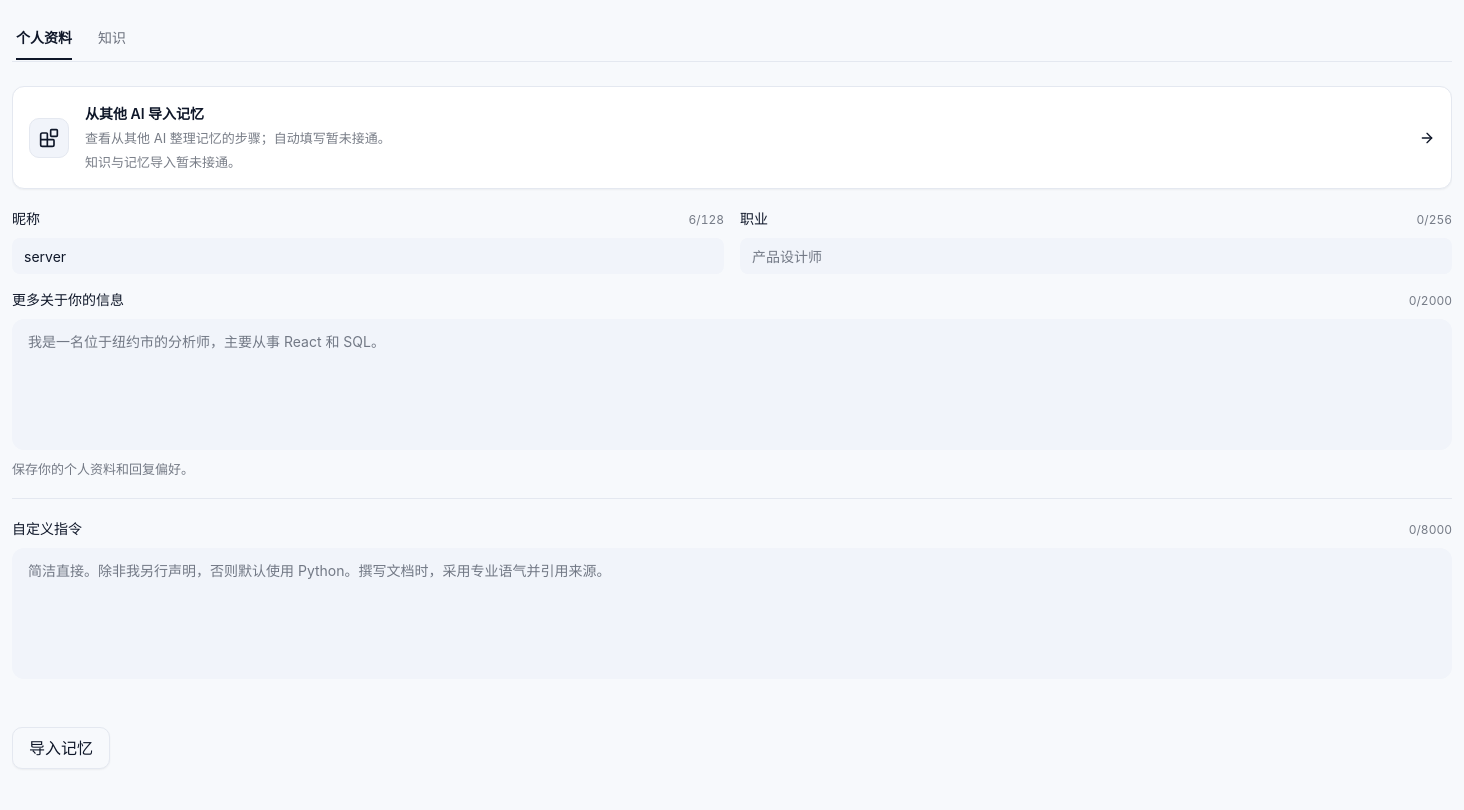
it: adopts the reread server snapshot only when the user chooses it
This screenshot has width=1464, height=810.
Replace the text in the field labelled "昵称" with "mine". click: [368, 256]
box: [12, 238, 724, 274]
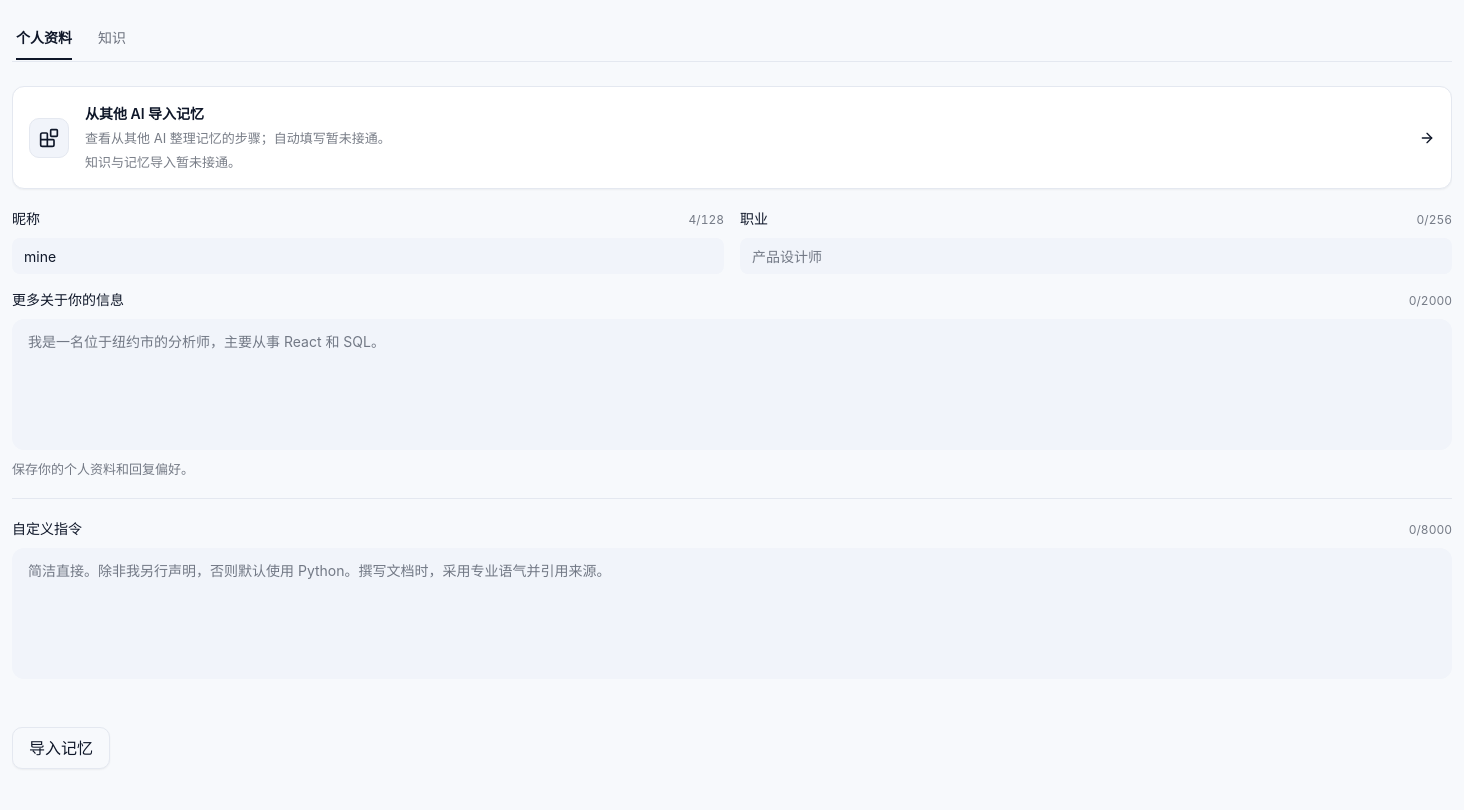
Leave the field labelled "昵称", box [12, 238, 724, 274]
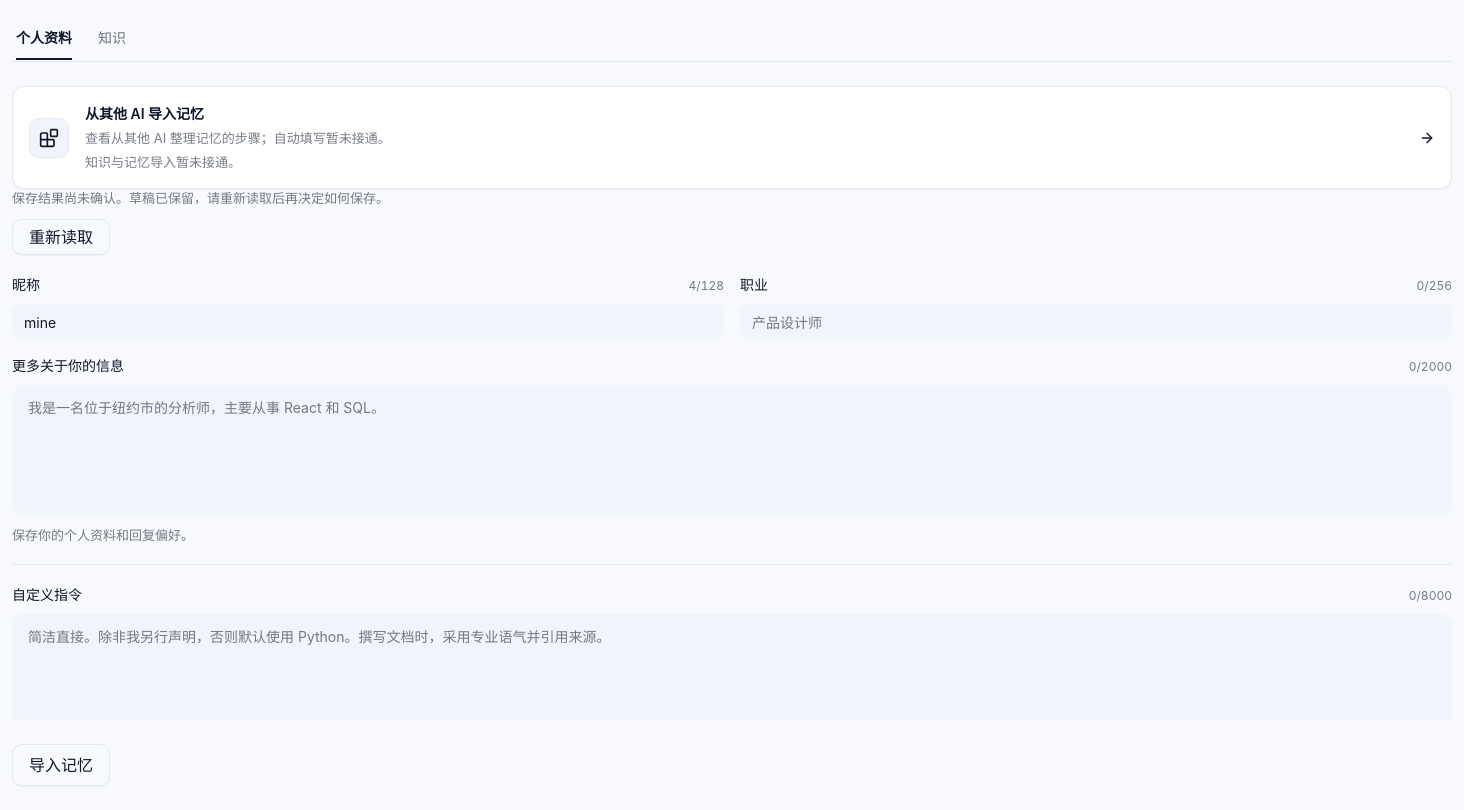
Expected: the button "重新读取" is shown
Click the button "重新读取". click: [61, 237]
box: [12, 219, 110, 255]
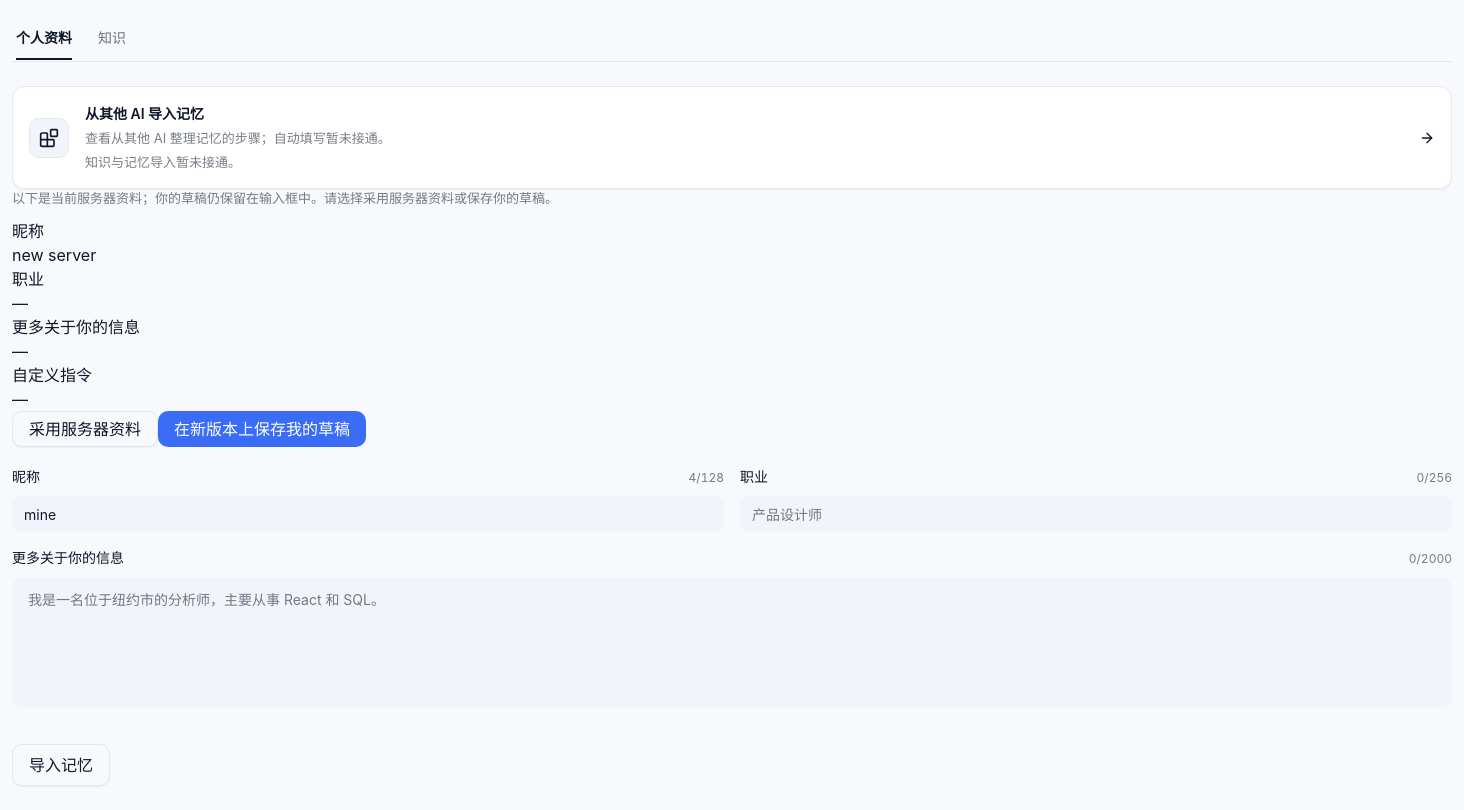
Expected: the button "采用服务器资料" is shown
Click the button "采用服务器资料". click: [85, 429]
box: [12, 411, 158, 447]
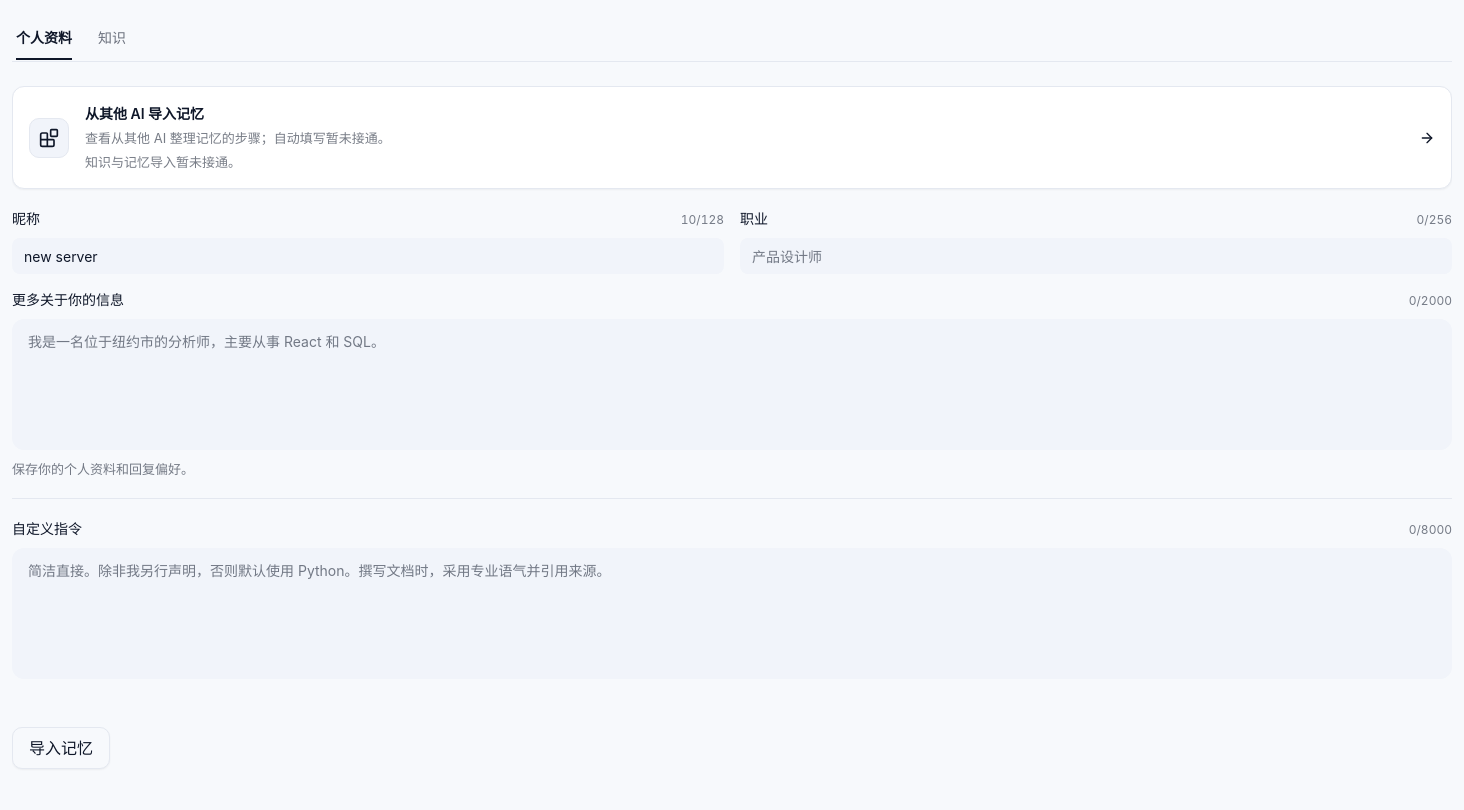
Expected: the field labelled "昵称" holds "new server", [12, 238, 724, 274]
